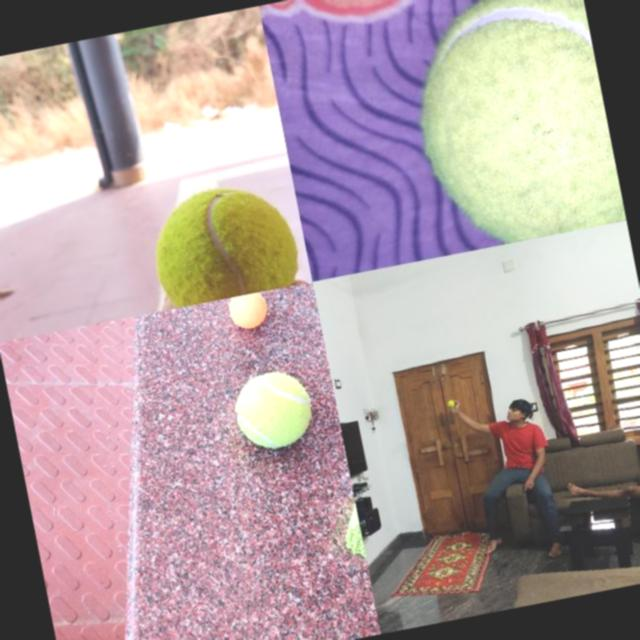tennis-ball: (395, 0, 625, 255), (144, 176, 304, 310), (230, 366, 318, 454), (447, 400, 455, 408)
